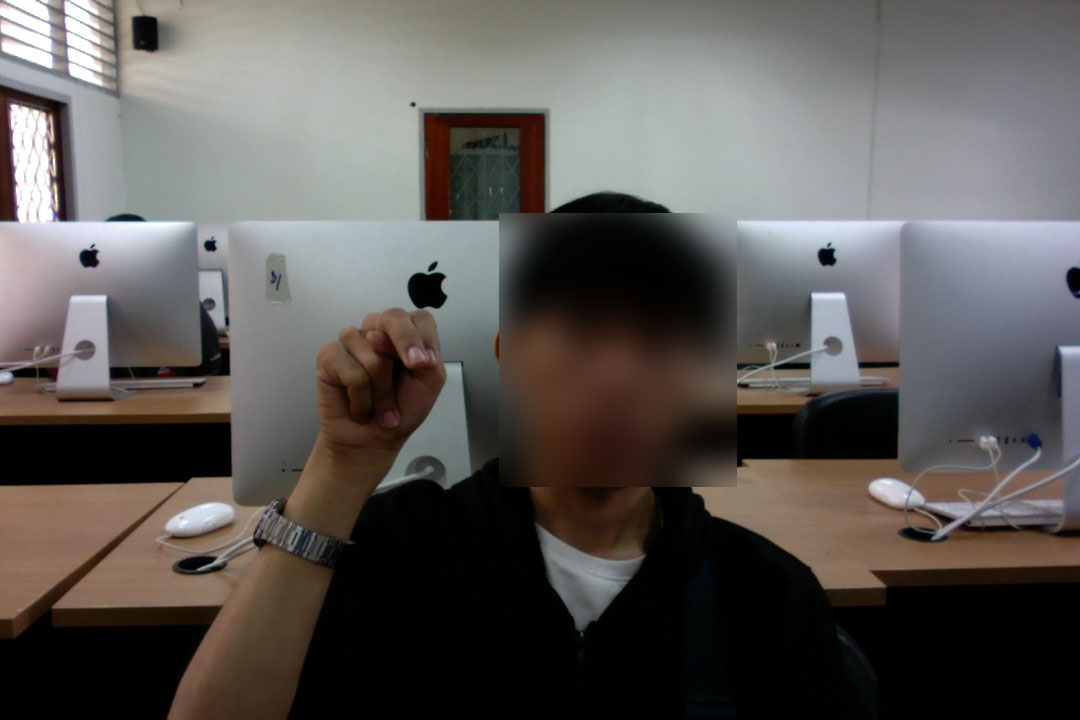nor: (308, 298, 453, 484)
